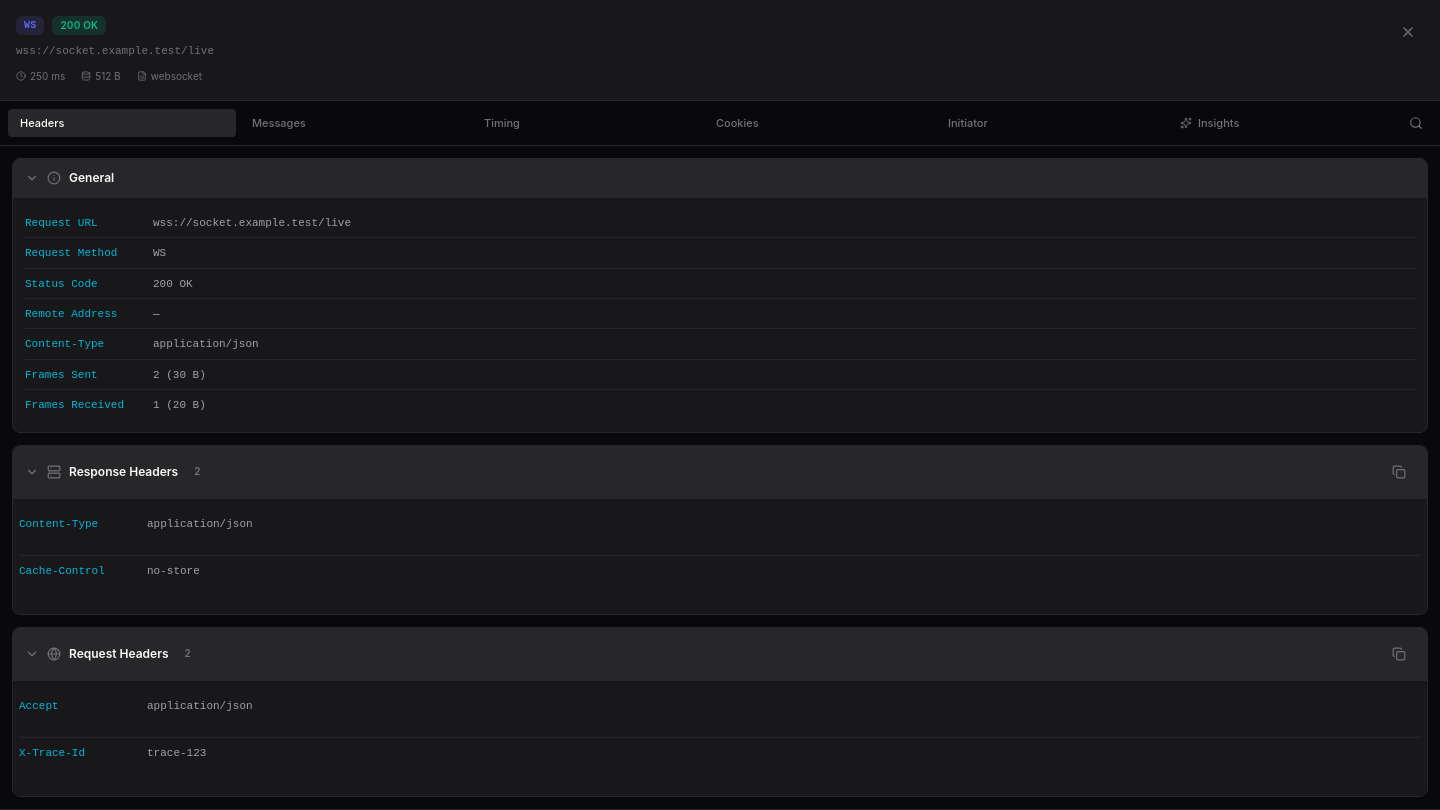
NetworkRequestDetails (WebSocket) › shows an empty state before any frames arrive
The width and height of the screenshot is (1440, 810).
Click the button "Messages" at x=354, y=123, box [240,109,468,137]
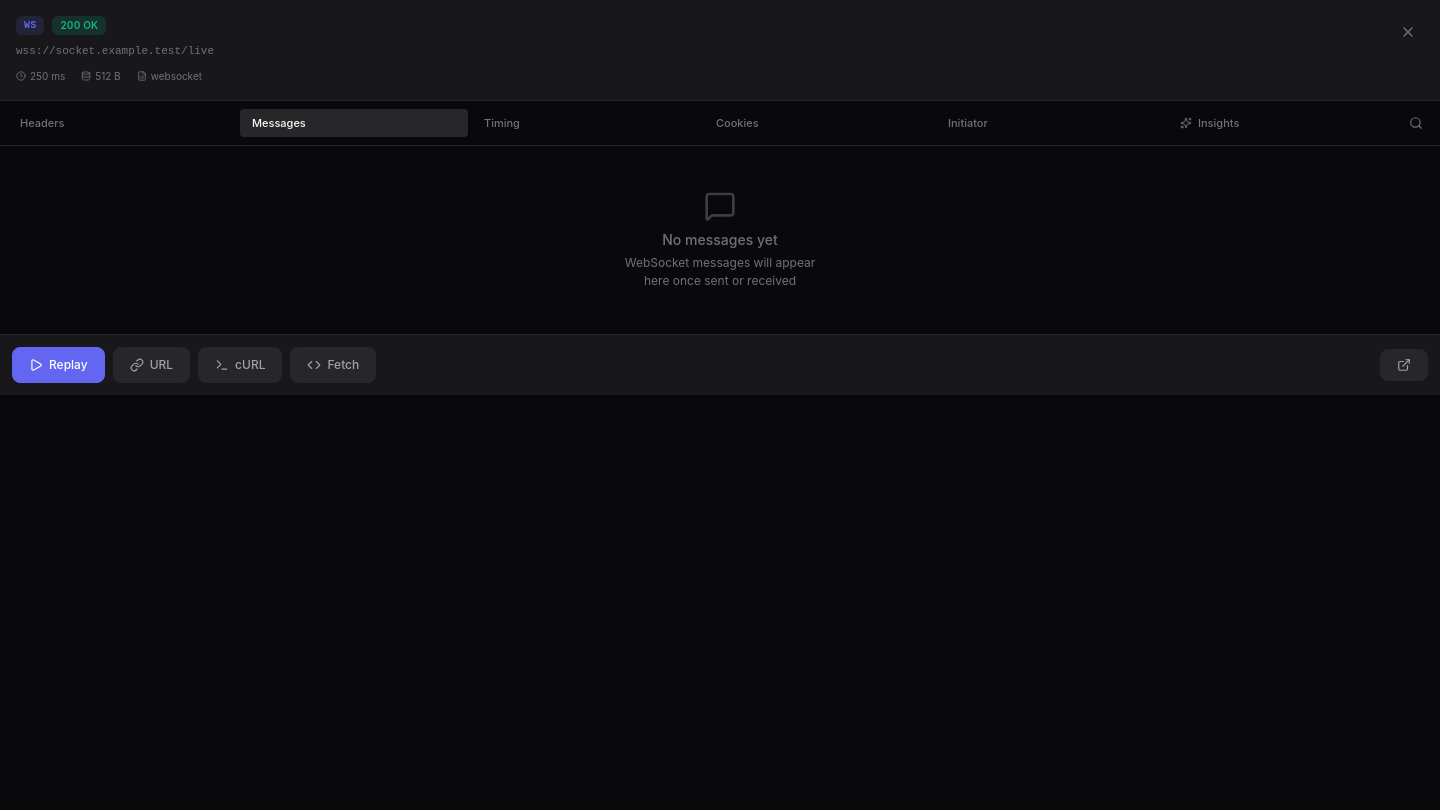
Check: the text "No messages yet" is shown, box [662,230,778,250]
